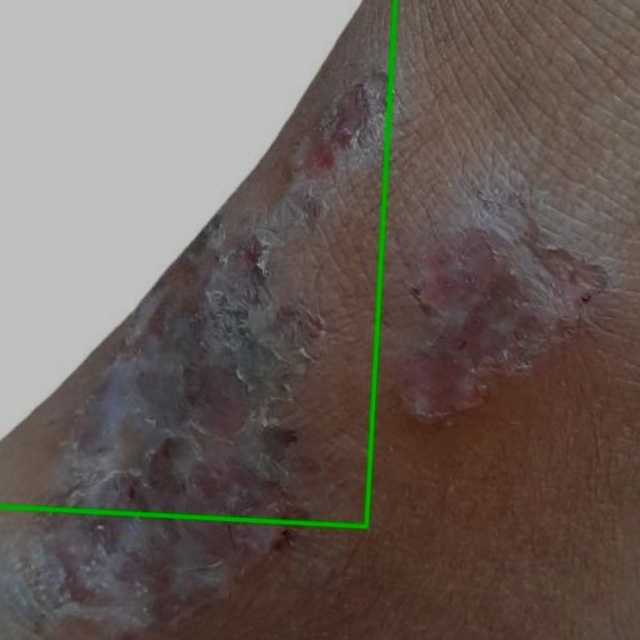Contact Dermatitis: (0, 0, 394, 526)
